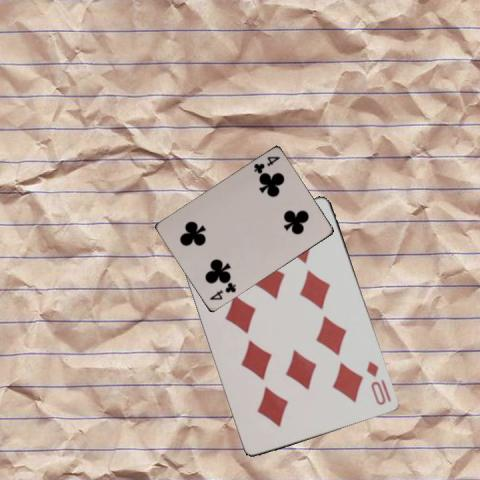10d: (364, 358, 388, 407)
4c: (207, 280, 237, 302), (251, 154, 281, 176)
